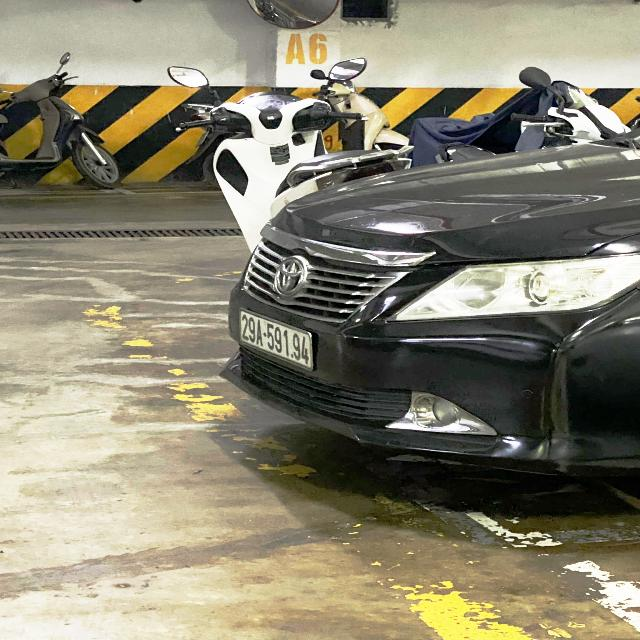license_plate: (237, 307, 316, 372)
